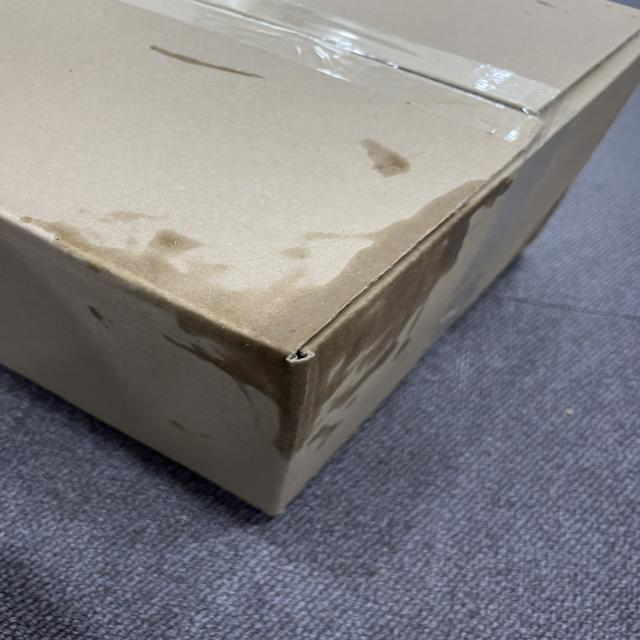wet: (159, 137, 509, 447)
